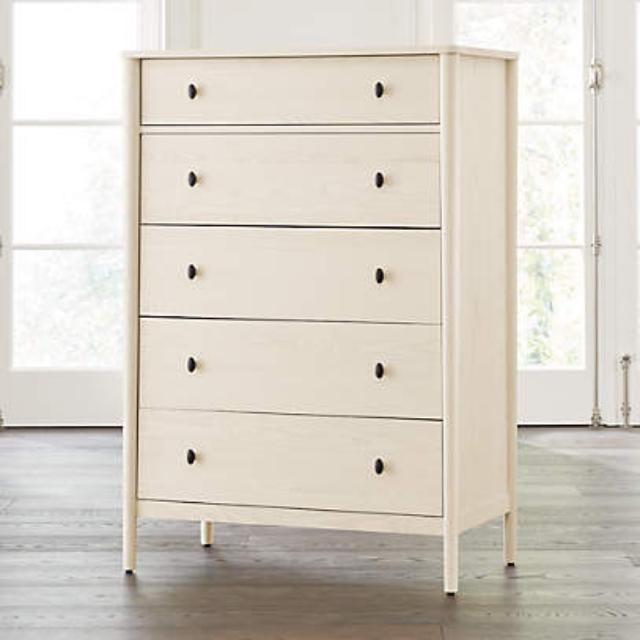dresser: (113, 38, 529, 621)
